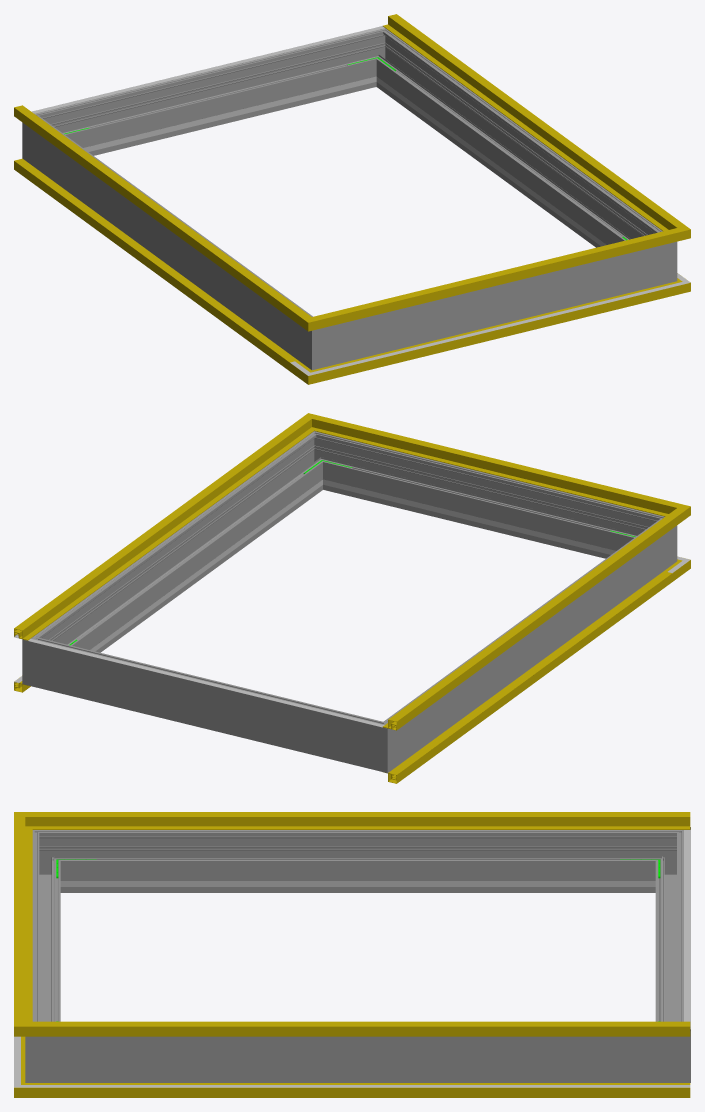
3 views of the same model, one above another, from view 1: azimuth 30°, elevation 25°; view 2: azimuth 150°, elevation 25°; view 3: azimuth 270°, elevation 25° (orthographic). The views are drawn at different scales.
Visible parts, largest first — view 1: 3DGeom-276, 3DGeom-297, 3DGeom-298, 3DGeom-268, 3DGeom-128, 3DGeom-118, 3DGeom-123, 3DGeom-11, 3DGeom-6, 3DGeom-270, 3DGeom-25, 3DGeom-244 (+9 smaller); view 2: 3DGeom-298, 3DGeom-297, 3DGeom-276, 3DGeom-268, 3DGeom-128, 3DGeom-123, 3DGeom-118, 3DGeom-6, 3DGeom-278, 3DGeom-284, 3DGeom-25, 3DGeom-239 (+6 smaller); view 3: 3DGeom-268, 3DGeom-297, 3DGeom-118, 3DGeom-128, 3DGeom-16, 3DGeom-298, 3DGeom-276, 3DGeom-123, 3DGeom-232, 3DGeom-284, 3DGeom-290, 3DGeom-18 (+6 smaller).
Boxes of the visible parts, x1,y1,x2,y2 form: 3DGeom-276: (57, 34, 371, 155); 3DGeom-297: (379, 39, 653, 247); 3DGeom-298: (343, 249, 645, 362); 3DGeom-268: (40, 125, 303, 356); 3DGeom-128: (383, 14, 671, 227); 3DGeom-118: (14, 105, 297, 317); 3DGeom-123: (335, 233, 658, 323); 3DGeom-11: (335, 287, 658, 376); 3DGeom-6: (14, 158, 297, 371); 3DGeom-270: (293, 310, 343, 370); 3DGeom-25: (14, 159, 294, 362); 3DGeom-244: (95, 84, 345, 150); 3DGeom-298: (328, 437, 642, 558); 3DGeom-297: (46, 442, 319, 652); 3DGeom-276: (54, 643, 361, 765); 3DGeom-268: (396, 527, 658, 759); 3DGeom-128: (14, 426, 303, 640); 3DGeom-123: (332, 421, 658, 513); 3DGeom-118: (383, 518, 672, 730); 3DGeom-6: (384, 571, 672, 783); 3DGeom-278: (356, 712, 405, 773); 3DGeom-284: (22, 627, 59, 691); 3DGeom-25: (392, 572, 671, 775); 3DGeom-239: (354, 487, 604, 553); 3DGeom-268: (67, 830, 648, 892); 3DGeom-297: (67, 1036, 648, 1082); 3DGeom-118: (56, 812, 690, 829); 3DGeom-128: (56, 1021, 690, 1036); 3DGeom-16: (56, 1083, 690, 1097); 3DGeom-298: (32, 845, 60, 1021); 3DGeom-276: (655, 845, 683, 1021); 3DGeom-123: (14, 830, 32, 1018); 3DGeom-232: (101, 881, 614, 886); 3DGeom-284: (648, 1014, 690, 1082); 3DGeom-290: (25, 1014, 67, 1082); 3DGeom-18: (56, 1085, 690, 1087).
Bounding box in the file's own units: 1.83 × 0.2836 × 2.44.
